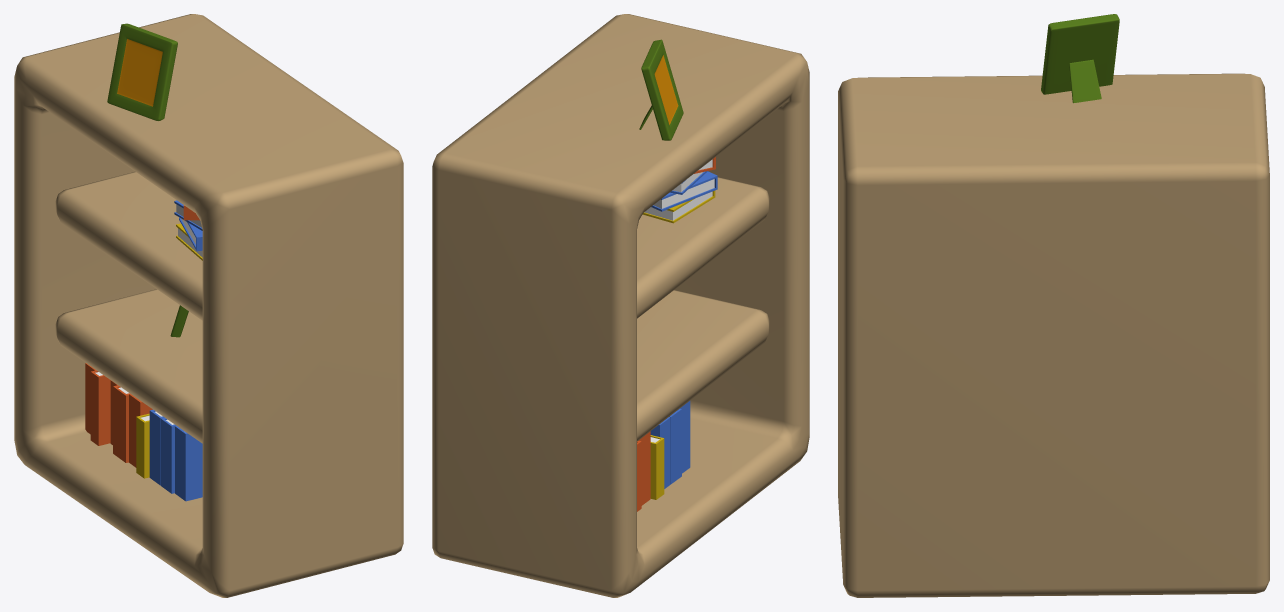
Rendered from armadietto_LOD1.fbx.
The picture shows the model from 3 angles, left to right: view 1: azimuth 30°, elevation 25°; view 2: azimuth 150°, elevation 25°; view 3: azimuth 270°, elevation 25°; orthographic projection. The views are drawn at different scales.
Visible parts, largest first — view 1: cabinet_01_001; view 2: cabinet_01_001; view 3: cabinet_01_001.
Part boxes in pixels (bbox=[...]): cabinet_01_001: bbox=[14, 14, 403, 597]; cabinet_01_001: bbox=[432, 14, 809, 597]; cabinet_01_001: bbox=[838, 14, 1269, 597].
Size of the model in its own units: 186 by 422 by 325.
